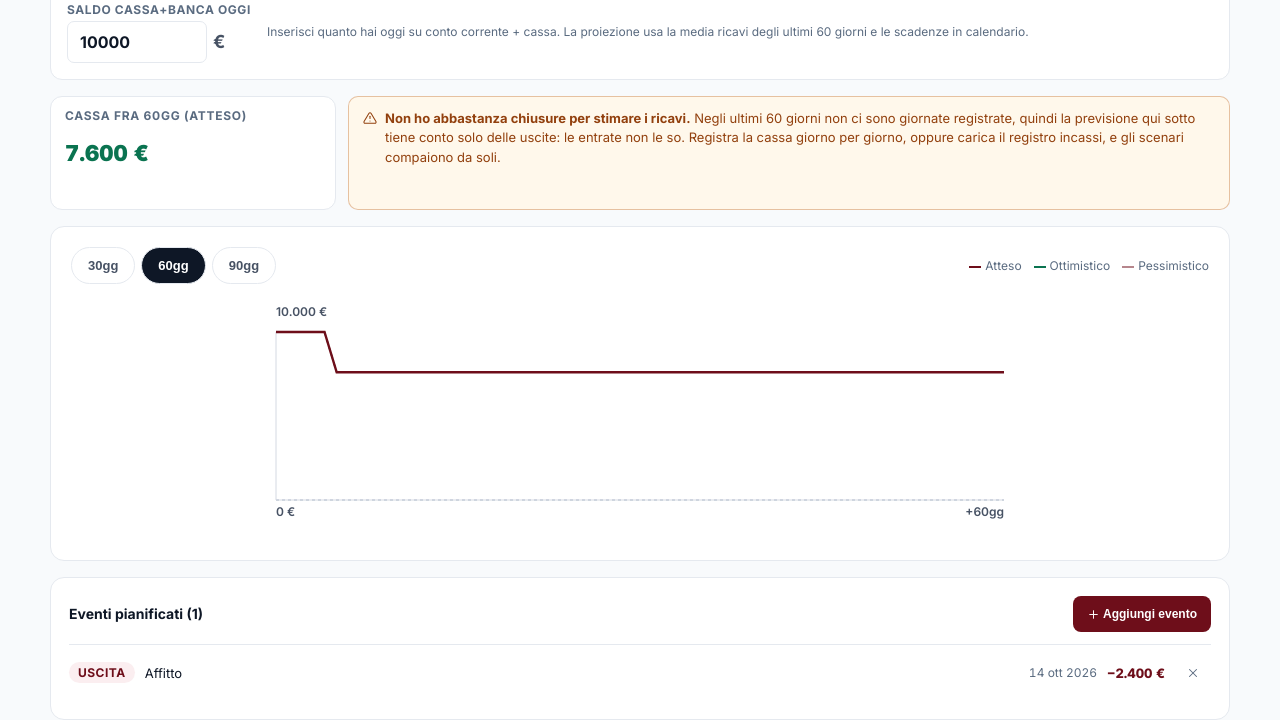
Test case: eliminare un evento: la finestra è quella dell'app › se confermi, sparisce dall'elenco e dalla previsione
(page scrolled)
Click the button named "Elimina evento Affitto": (1193, 673) [1175,655,1211,691]
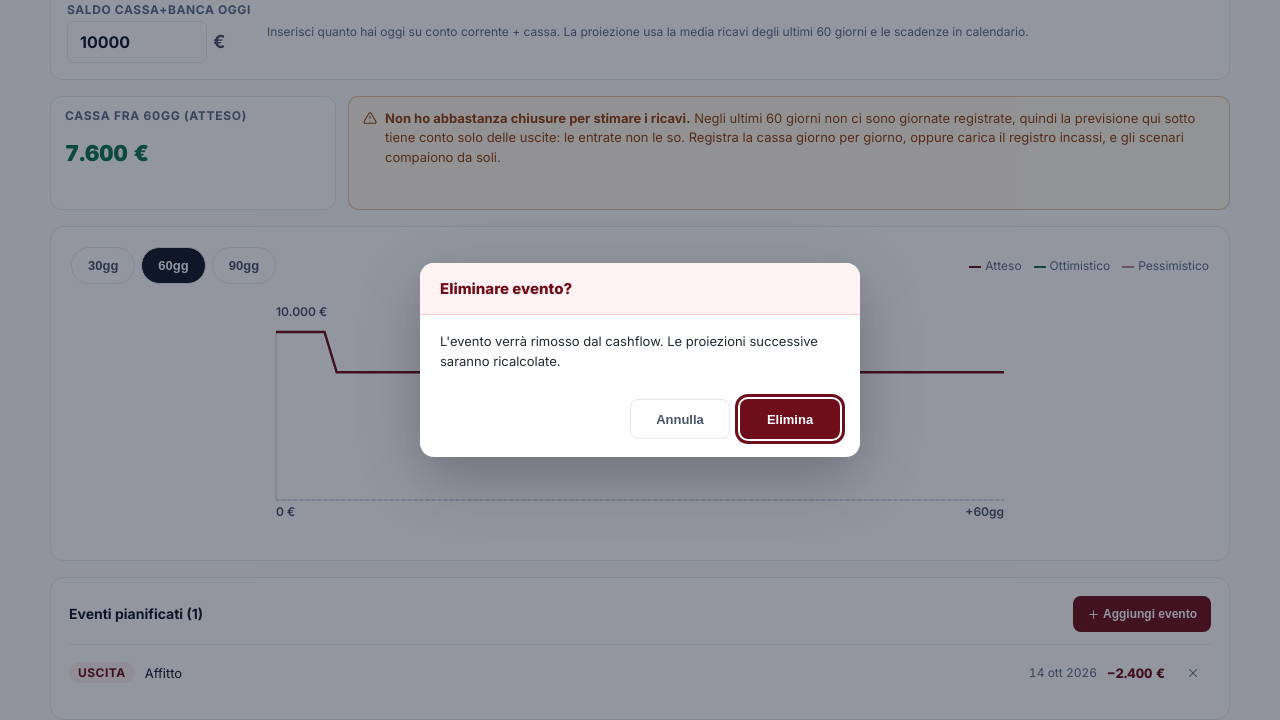
Check: the text "Eliminare evento?" is shown, box [440,279,572,298]
Click the button "Elimina": (790, 419) [740,399,840,439]
(page scrolled)
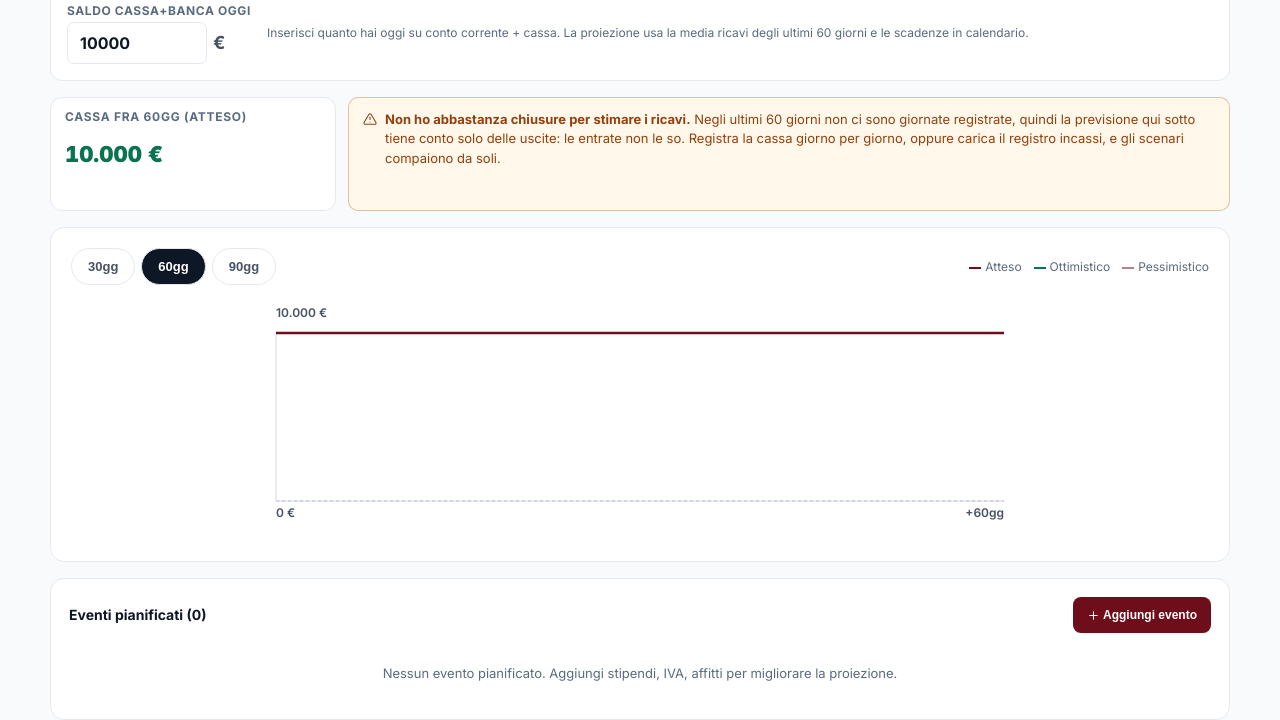
Check: the text "Affitto" is gone
